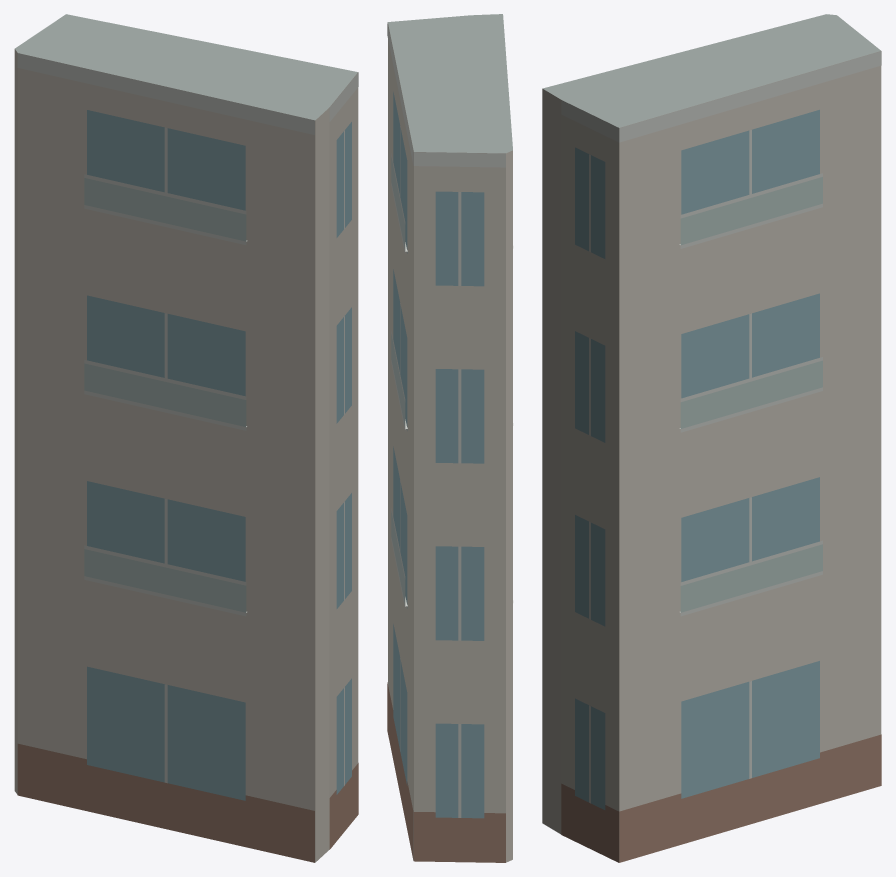
The model's file is survey-upis-32469544.glb.
3 views of the same model, side by side, from view 1: azimuth 30°, elevation 25°; view 2: azimuth 150°, elevation 25°; view 3: azimuth 270°, elevation 25° (orthographic). The views are drawn at different scales.
Visible parts, largest first — view 1: survey-upis-32469544.tmp; view 2: survey-upis-32469544.tmp; view 3: survey-upis-32469544.tmp.
Part boxes in pixels (box(x1,y1,x2,y2)): survey-upis-32469544.tmp: box(14, 14, 358, 862); survey-upis-32469544.tmp: box(387, 14, 513, 862); survey-upis-32469544.tmp: box(542, 14, 881, 862).
Bounding box in the file's own units: 4.06 × 12.2 × 5.11.
